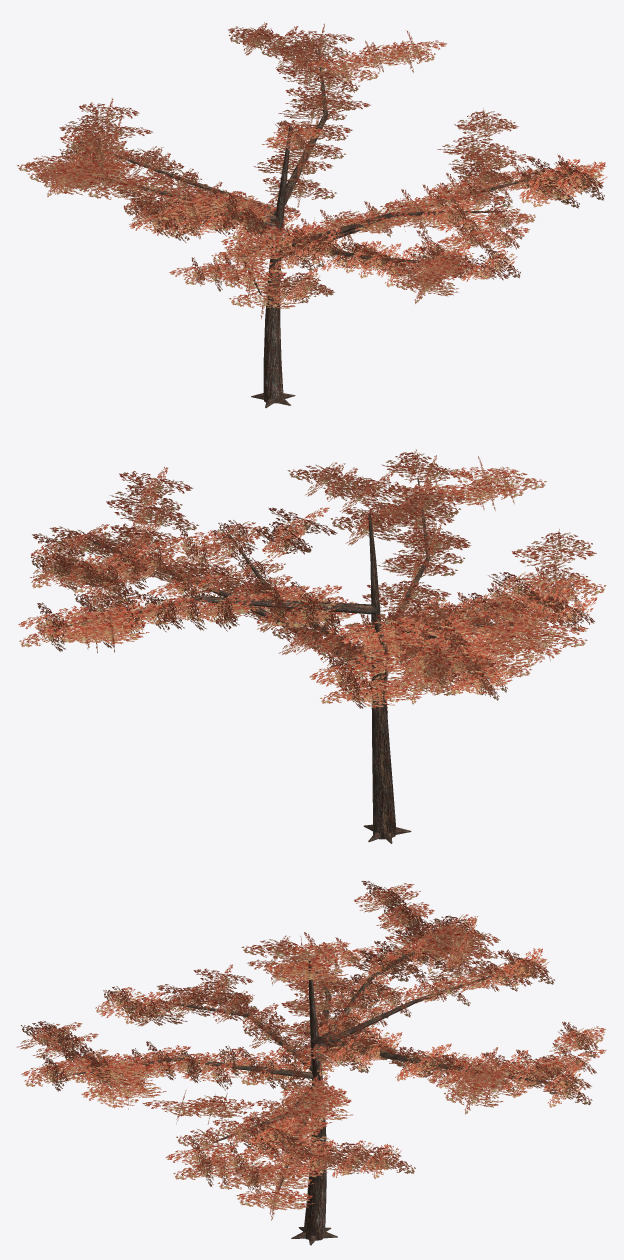
Rendered from tree_3d_06_copper_lod1.glb.
3 views of the same model, one above another, from view 1: azimuth 30°, elevation 25°; view 2: azimuth 150°, elevation 25°; view 3: azimuth 270°, elevation 25° (orthographic). The views are drawn at different scales.
Parts seen in each view (by area): view 1: foliage_cards, wood_geometry; view 2: foliage_cards, wood_geometry; view 3: foliage_cards, wood_geometry.
Part boxes in pixels (x1,y1,x2,y2): foliage_cards: (17, 22, 607, 319); wood_geometry: (60, 48, 544, 407); foliage_cards: (18, 449, 606, 714); wood_geometry: (57, 478, 576, 843); foliage_cards: (16, 881, 606, 1220); wood_geometry: (66, 951, 560, 1245).
Bounding box in the file's own units: 14.66 × 7.46 × 14.
Materials: 2 (2 with a texture image).
